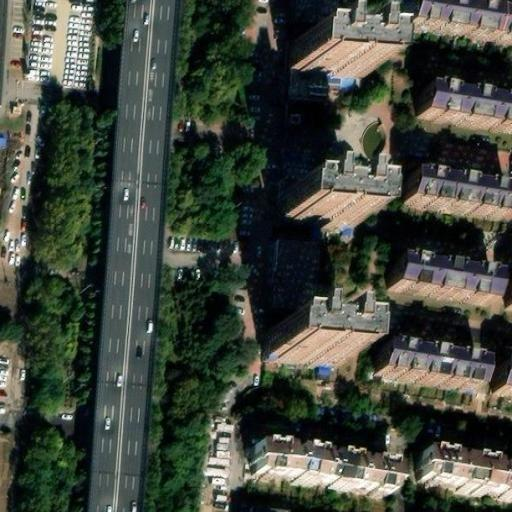building: (241, 442, 385, 489), (365, 345, 475, 391), (397, 174, 501, 222), (409, 85, 512, 133), (381, 261, 489, 306), (407, 447, 512, 492), (394, 0, 512, 40), (285, 40, 363, 80), (272, 195, 350, 235), (257, 324, 335, 364), (262, 246, 303, 316), (286, 0, 327, 46), (273, 169, 310, 199), (484, 364, 512, 398)
